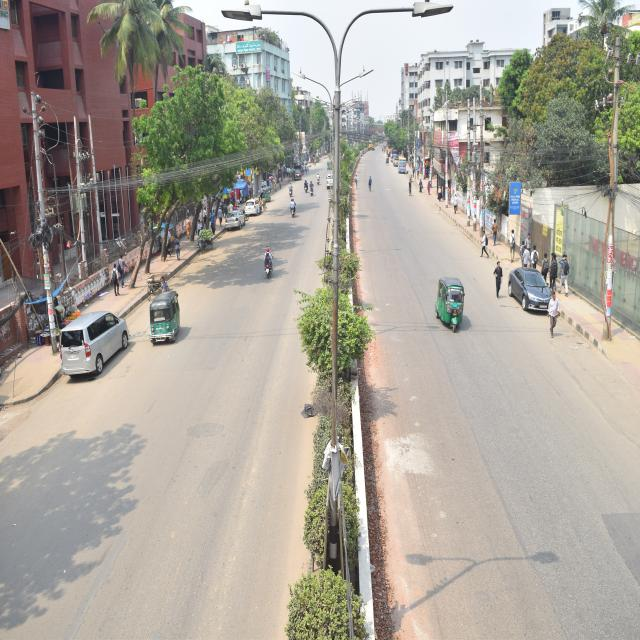car: (59, 308, 130, 378), (509, 266, 555, 316), (223, 207, 246, 231), (245, 195, 265, 218)
motorbike: (262, 248, 275, 282), (289, 200, 298, 223), (287, 182, 295, 198), (309, 180, 315, 198), (302, 180, 309, 194)
